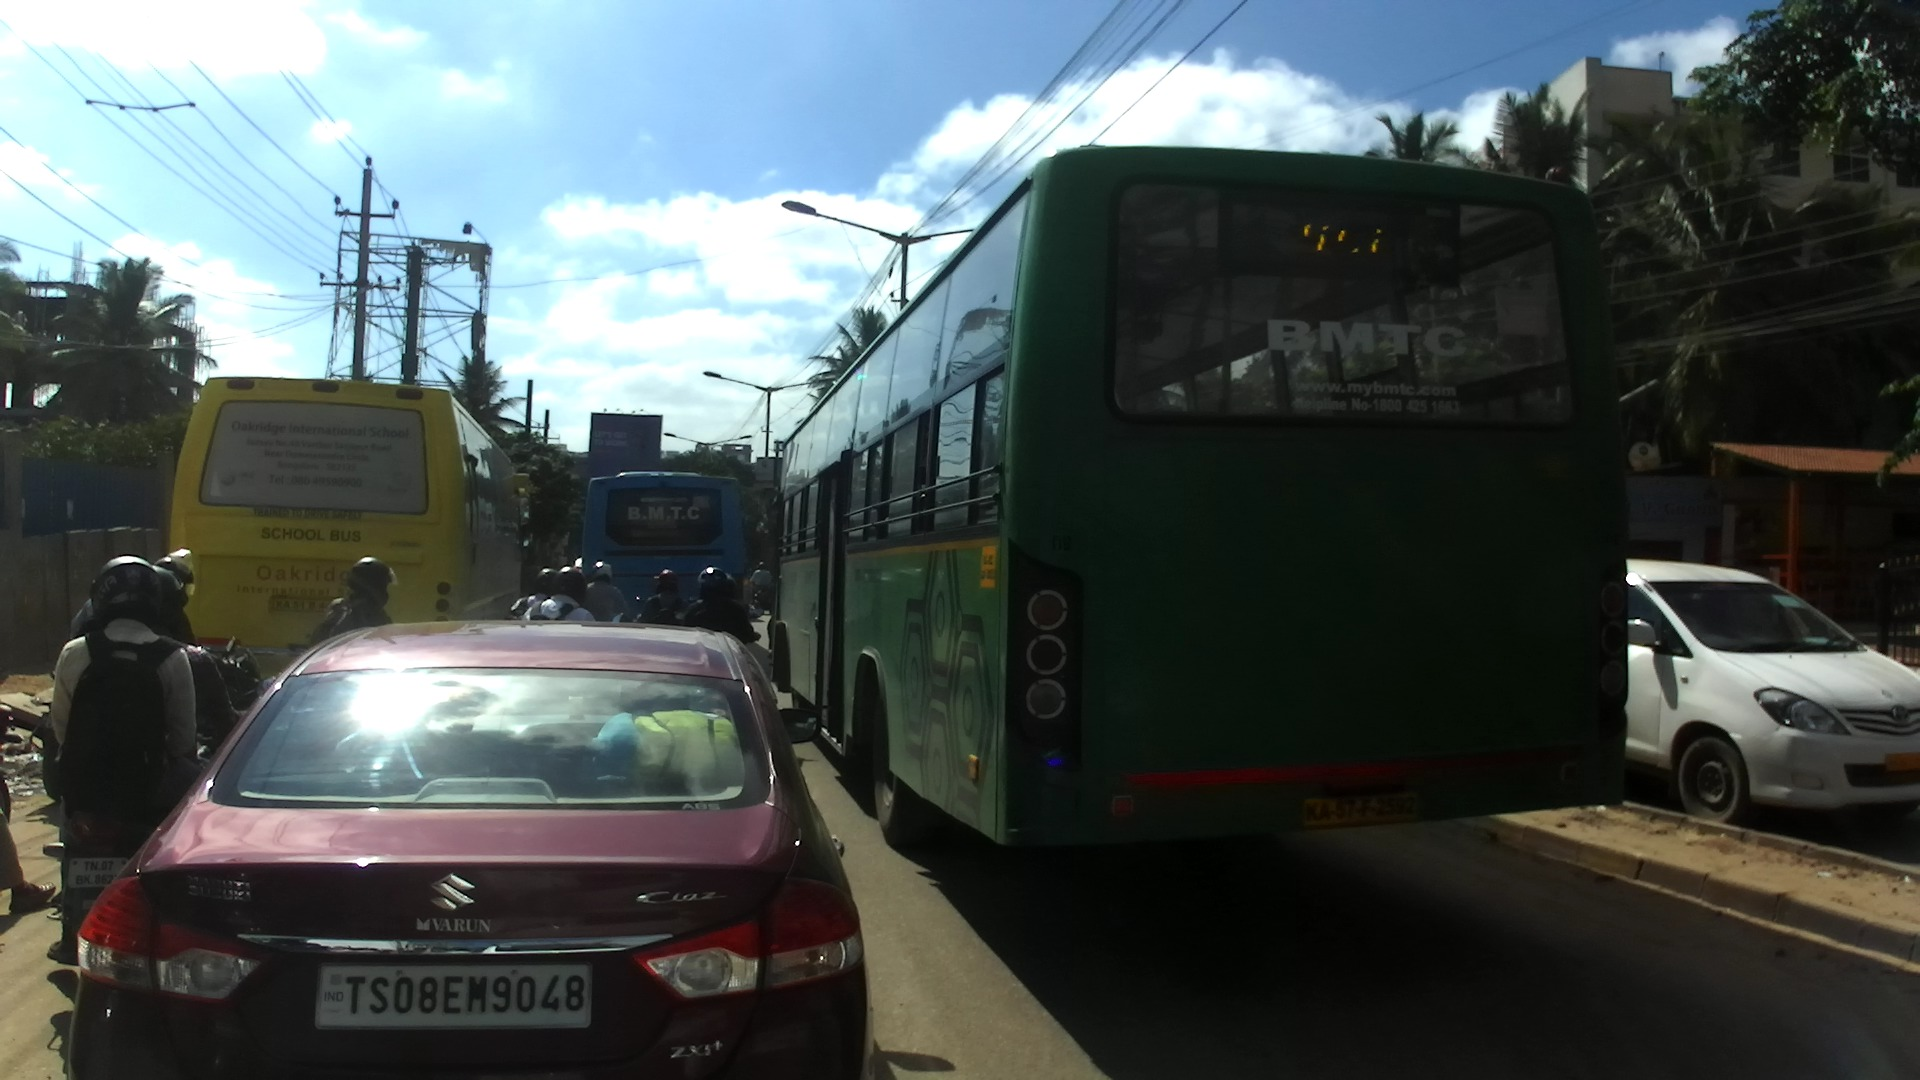bus: (767, 143, 1628, 858), (169, 374, 533, 689), (579, 471, 749, 629)
car: (64, 620, 878, 1080), (1624, 558, 1920, 823)
motorcycle: (30, 639, 263, 806), (44, 791, 183, 939), (0, 701, 22, 836), (634, 592, 701, 628), (751, 586, 771, 615)
rider: (45, 554, 210, 966), (89, 576, 242, 786), (1, 712, 60, 913), (305, 555, 394, 648), (678, 566, 751, 641), (152, 547, 197, 651), (519, 567, 596, 621), (636, 570, 694, 622), (506, 567, 559, 622), (584, 562, 628, 621), (725, 571, 760, 645), (750, 561, 775, 611), (67, 596, 93, 643), (574, 555, 582, 572)
